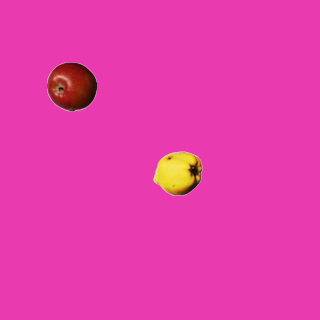Apple Braeburn: (46, 61, 96, 111)
Quince: (152, 148, 202, 198)
